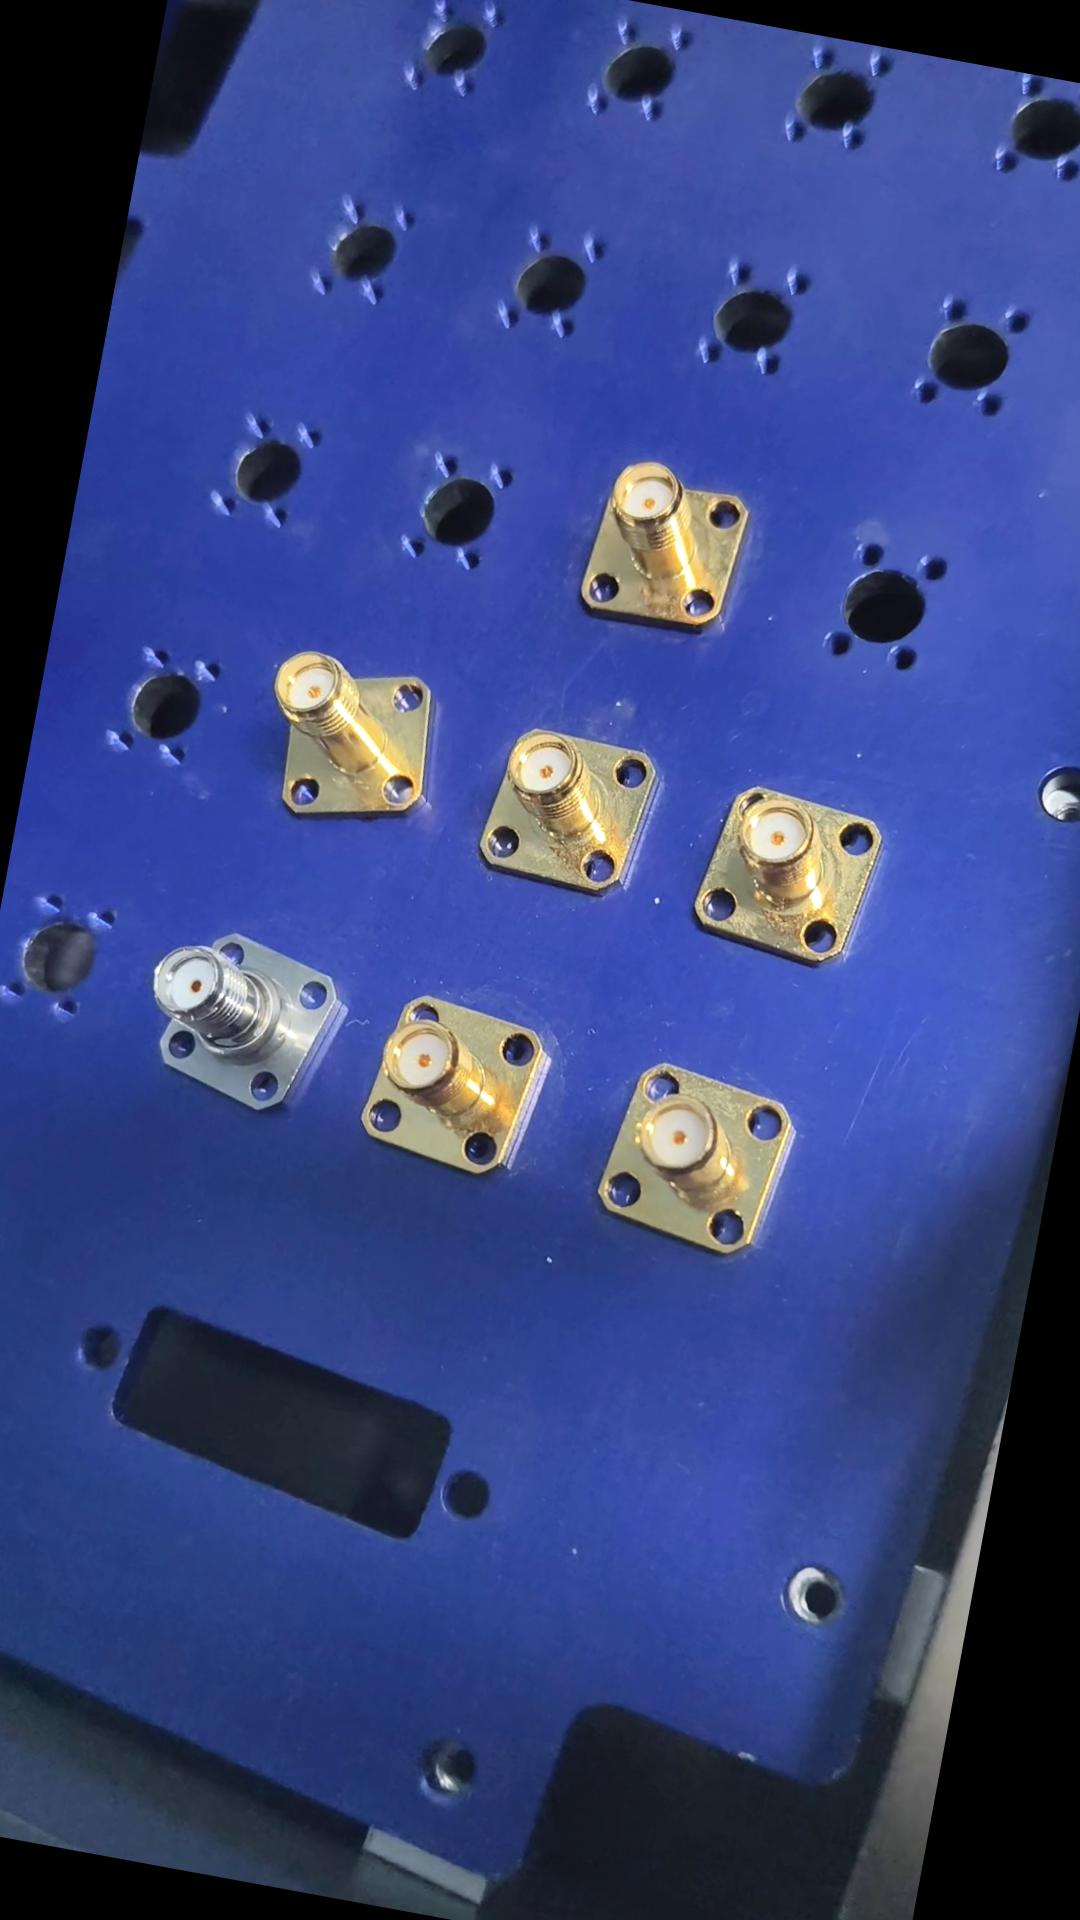SMA: (579, 1050, 802, 1273), (128, 918, 352, 1125), (348, 978, 553, 1185), (683, 771, 890, 968), (245, 644, 446, 839), (471, 716, 667, 906), (564, 451, 761, 640)
